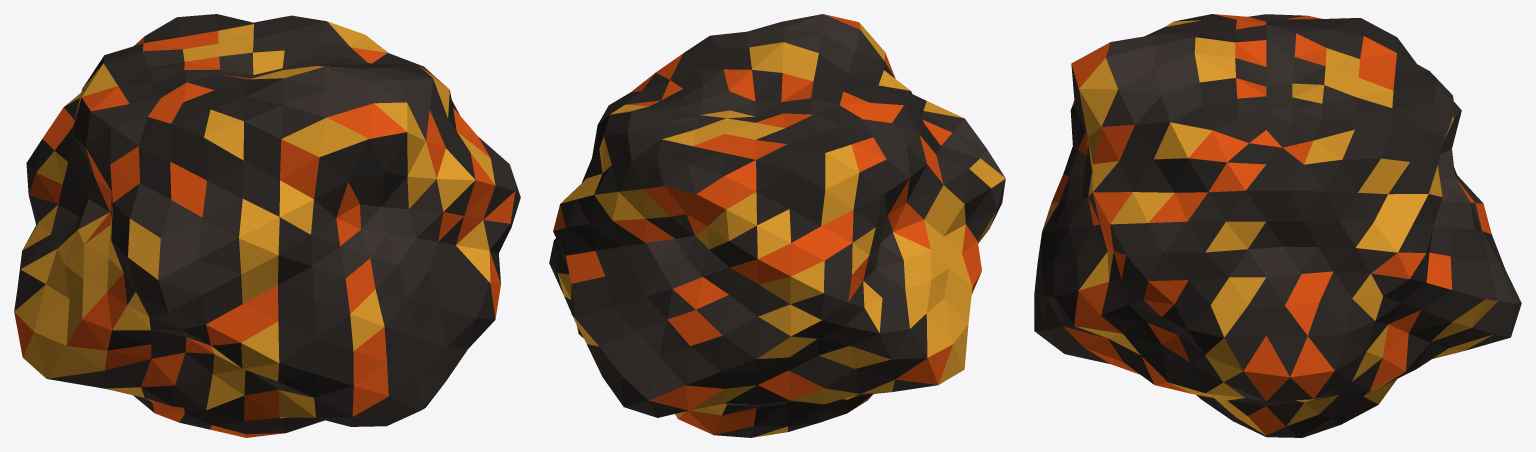
Rendered from volcanic_boulder.glb.
The picture shows the model from 3 angles, left to right: view 1: azimuth 30°, elevation 25°; view 2: azimuth 150°, elevation 25°; view 3: azimuth 270°, elevation 25°; orthographic projection. The views are drawn at different scales.
Parts seen in each view (by area): view 1: volcanic_boulder; view 2: volcanic_boulder; view 3: volcanic_boulder.
Part boxes in pixels (box(x1,y1,x2,y2)): volcanic_boulder: box(14, 14, 520, 437); volcanic_boulder: box(549, 14, 1005, 437); volcanic_boulder: box(1034, 14, 1521, 437).
Bounding box in the file's own units: 2.17 × 1.87 × 2.19.
